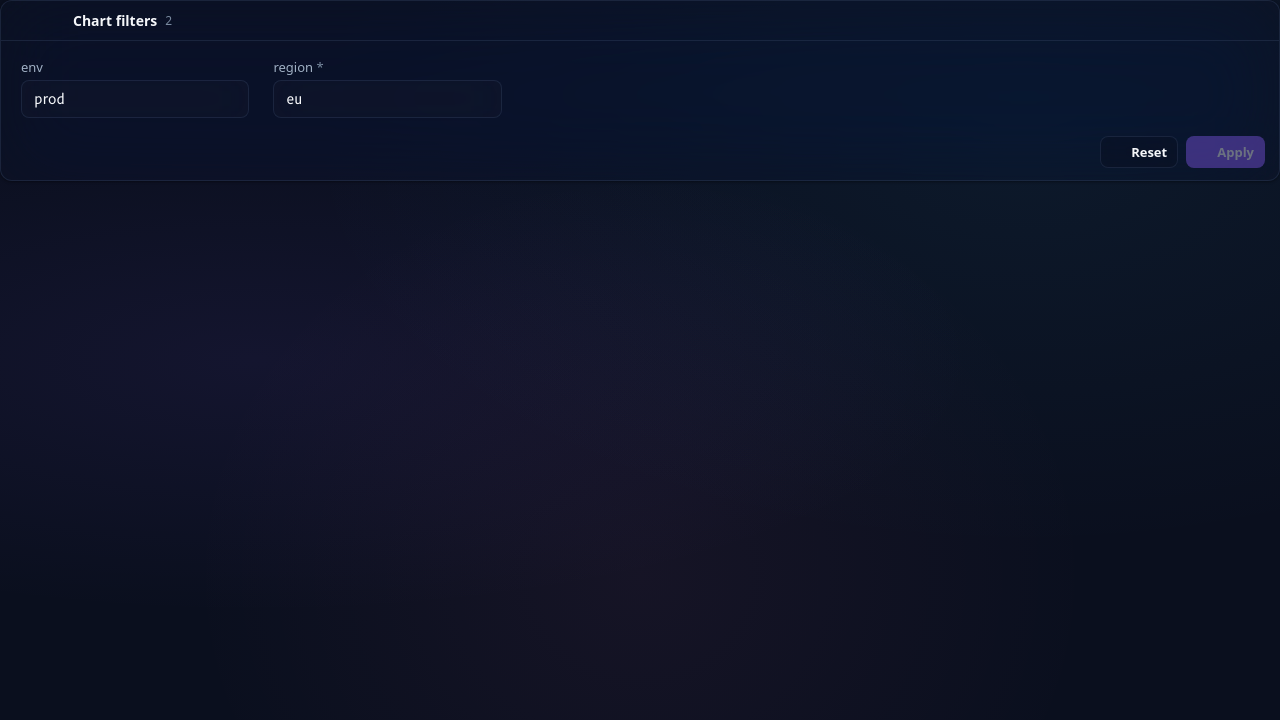
Reset › returns every control to its starting value
Replace the text in the field labelled "region *" with "us": [388, 99] box [273,80,502,118]
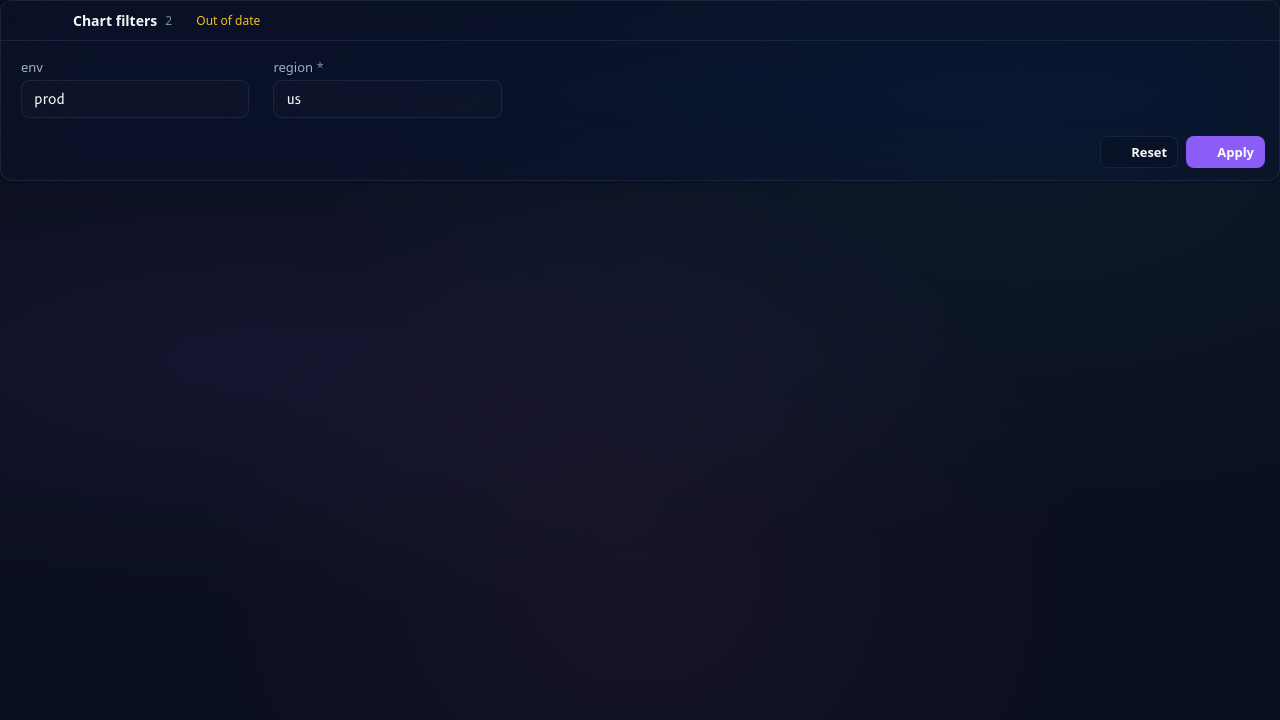
Click the button "Reset": [1139, 152] box [1100,136,1178,168]
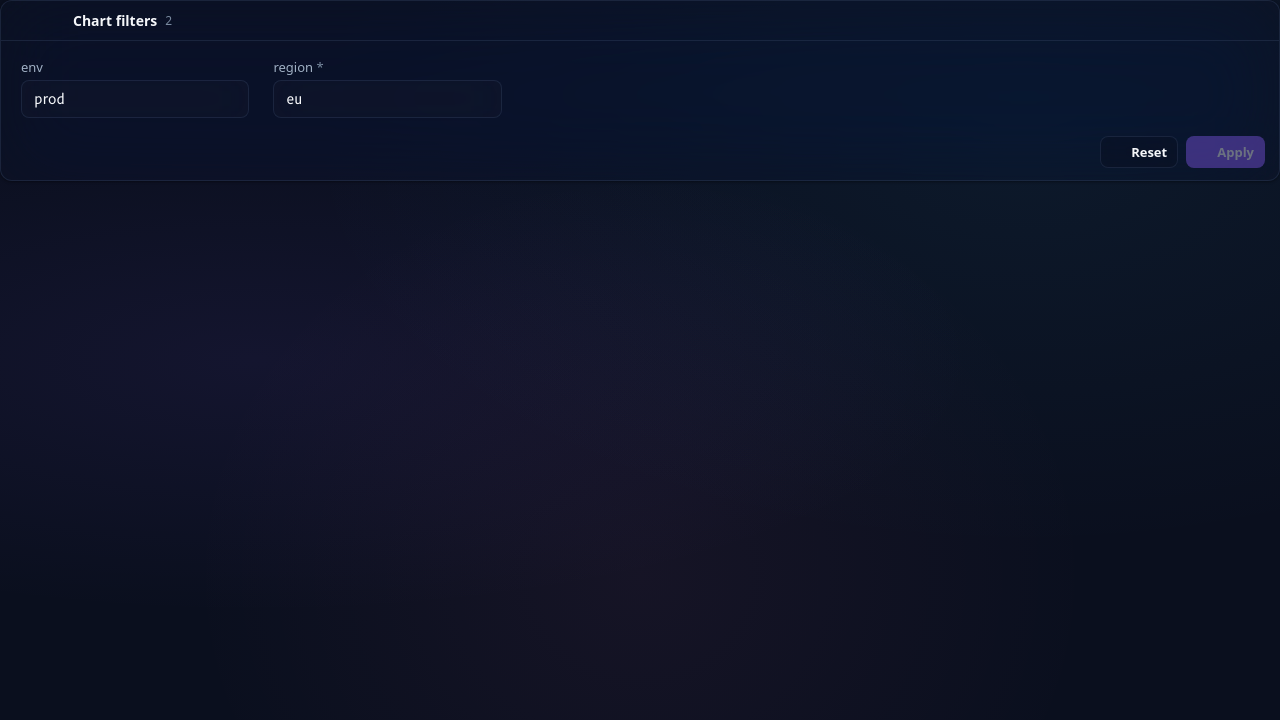
Expected: the field labelled "region *" holds "eu", [273,80,502,118]
